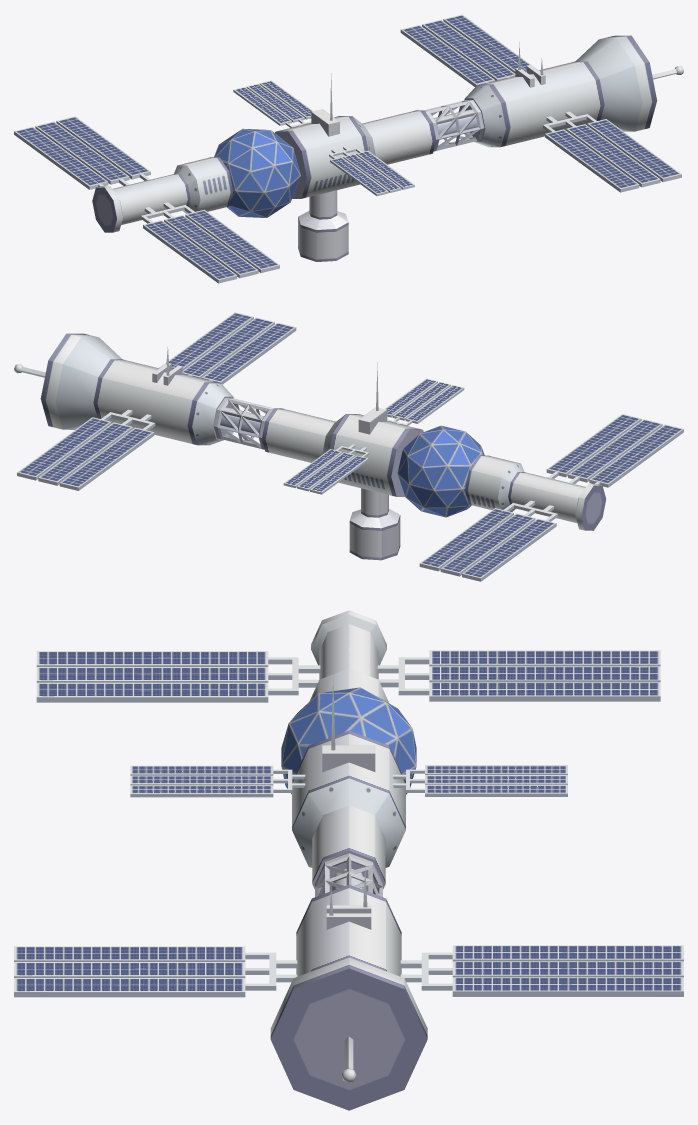
Rendered from WeiXing.glb.
The picture shows the model from 3 angles, top to bottom: view 1: azimuth 30°, elevation 25°; view 2: azimuth 150°, elevation 25°; view 3: azimuth 270°, elevation 25°; orthographic projection. The views are drawn at different scales.
Visible parts, largest first — view 1: Obj3d66-1715014-10-543; view 2: Obj3d66-1715014-10-543; view 3: Obj3d66-1715014-10-543.
Boxes of the visible parts, x1,y1,x2,y2 form: Obj3d66-1715014-10-543: [14, 14, 683, 283]; Obj3d66-1715014-10-543: [14, 312, 683, 581]; Obj3d66-1715014-10-543: [14, 610, 683, 1110].
Bounding box in the file's own units: 135 × 41.1 × 88.4.
Materials: 1 (1 with a texture image).
